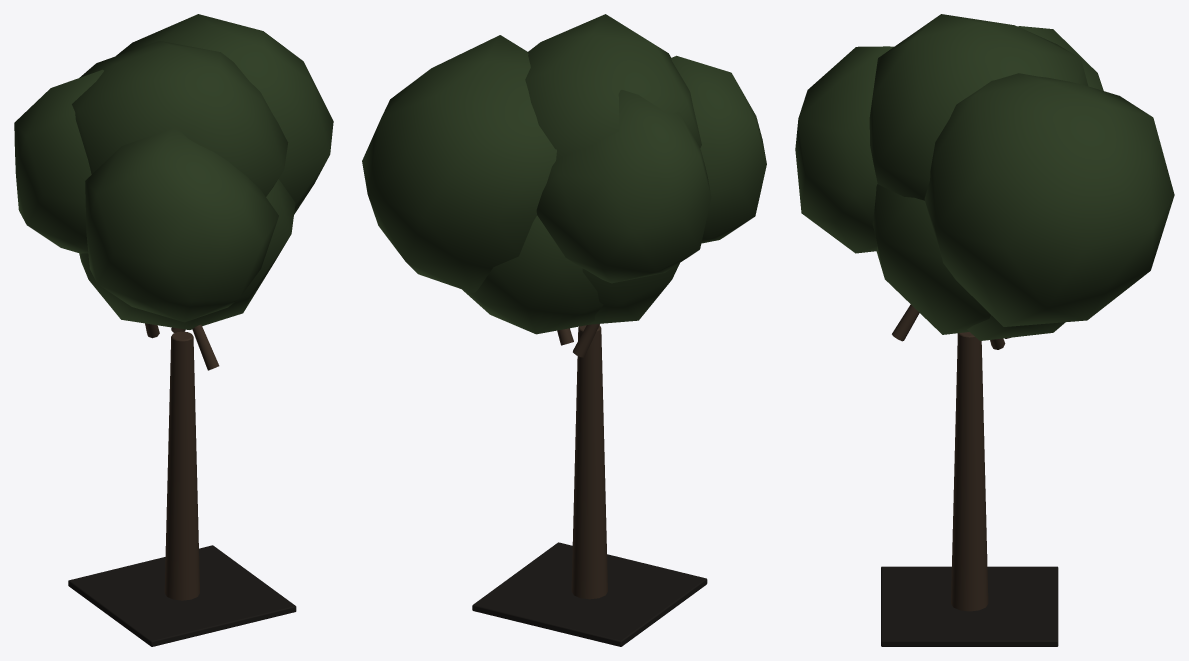
File: baum.glb
3 views of the same model, side by side, from view 1: azimuth 30°, elevation 25°; view 2: azimuth 150°, elevation 25°; view 3: azimuth 270°, elevation 25° (orthographic). The views are drawn at different scales.
Parts seen in each view (by area): view 1: Icosphere.005, Icosphere, Cube, Icosphere.004, Icosphere.003, Cone, Icosphere.001, Cone.003; view 2: Icosphere.004, Icosphere.003, Icosphere, Cube, Icosphere.005, Icosphere.002, Cone, Icosphere.001; view 3: Icosphere.004, Icosphere, Icosphere.005, Cube, Cone, Icosphere.001, Icosphere.002, Icosphere.003.
Boxes of the visible parts, box(x1,y1,x2,y2) form: Icosphere.005: box(85, 128, 278, 322); Icosphere: box(72, 41, 288, 196); Cube: box(68, 545, 296, 646); Icosphere.004: box(116, 14, 333, 214); Icosphere.003: box(14, 69, 103, 253); Cone: box(164, 331, 199, 600); Icosphere.001: box(79, 179, 295, 329); Cone.003: box(192, 324, 219, 370); Icosphere.004: box(362, 35, 556, 292); Icosphere.003: box(536, 90, 711, 283); Icosphere: box(525, 14, 701, 160); Cube: box(472, 542, 707, 646); Icosphere.005: box(671, 55, 766, 243); Icosphere.002: box(462, 215, 603, 334); Cone: box(571, 325, 607, 599); Icosphere.001: box(582, 263, 679, 324); Icosphere.004: box(924, 73, 1174, 326); Icosphere: box(869, 14, 1088, 200); Icosphere.005: box(795, 46, 893, 253); Cube: box(881, 566, 1058, 646); Cone: box(951, 332, 988, 611); Icosphere.001: box(872, 184, 990, 334); Icosphere.002: box(967, 315, 1065, 340); Icosphere.003: box(1018, 26, 1103, 90).
Size of the model in its own units: 3.1 by 5.45 by 3.21.
